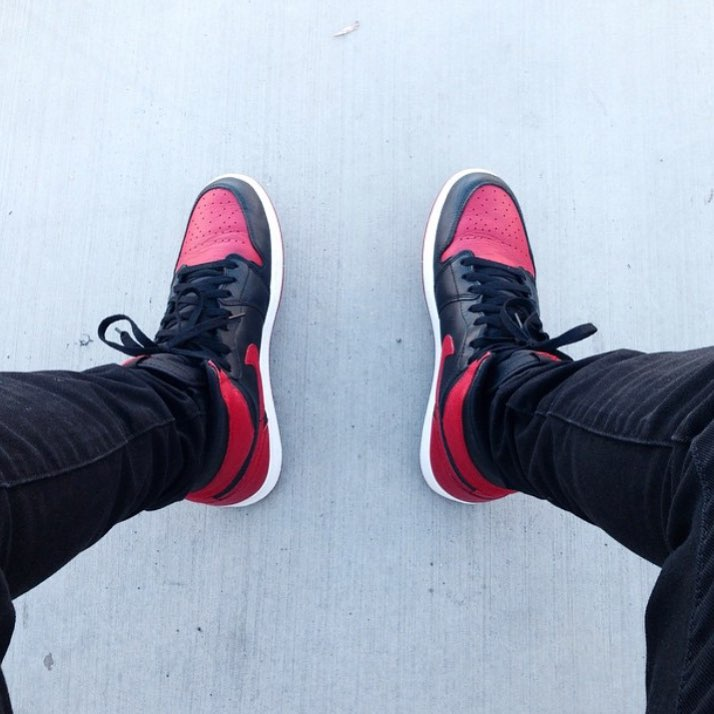sneaker: (93, 163, 325, 542), (402, 153, 615, 521)
